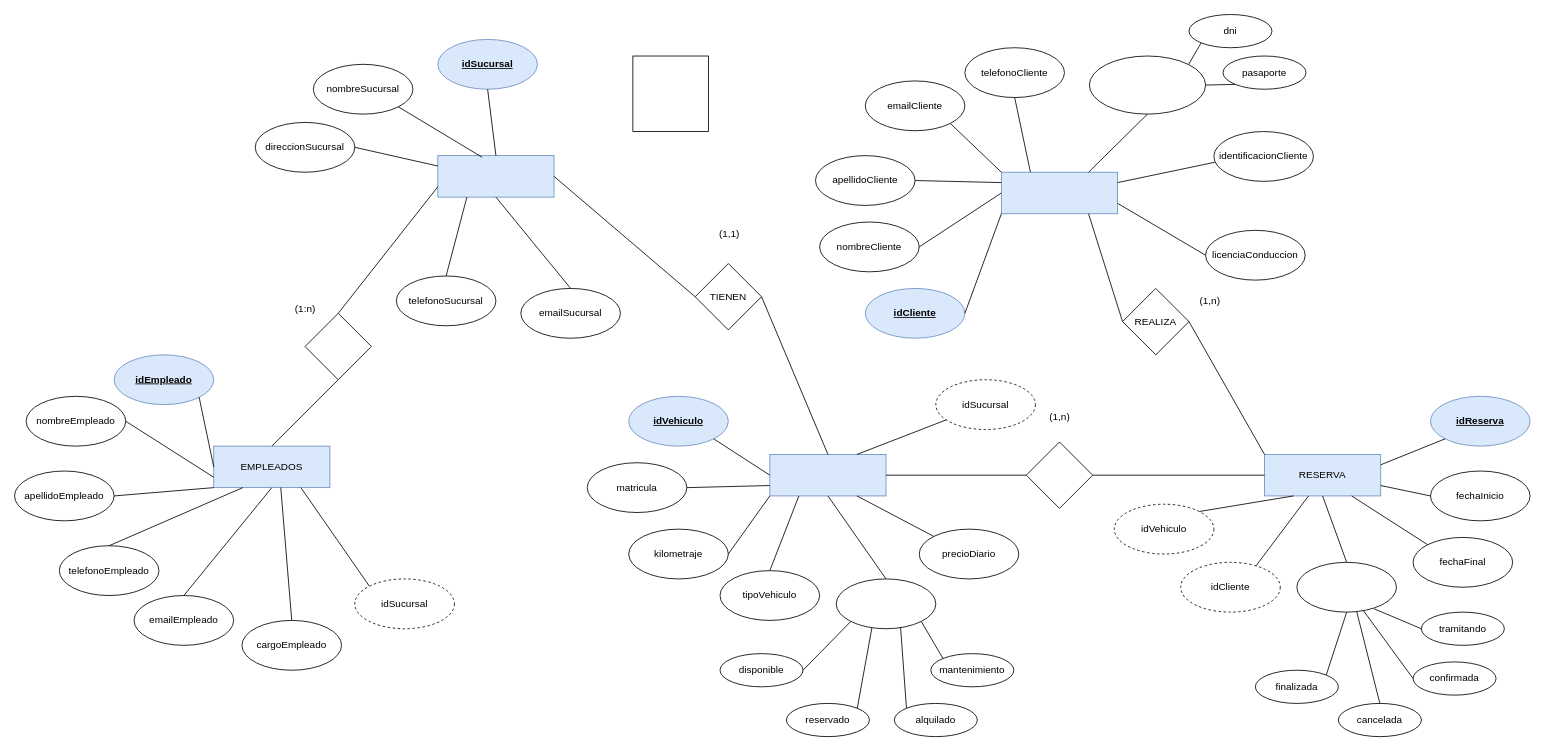
The diagram is 1545 pixels wide and 751 high, and some of its shapes have lost their labels. The box of each missing label's shape, as (x1, y1, x2, y2) in pixels:
CLIENTE: (1001, 171, 1118, 214)
estadoReserva: (1296, 561, 1396, 612)
estadoVehiculo: (835, 578, 936, 629)
P01 - C CarRentalX: (632, 55, 708, 132)
SOLICITA: (1025, 441, 1093, 508)
SUCURSAL: (437, 155, 554, 197)
tipoIdentificacionCliente: (1089, 55, 1206, 114)
TRABAJAN: (304, 312, 371, 380)
VEHICULO: (769, 454, 886, 496)
